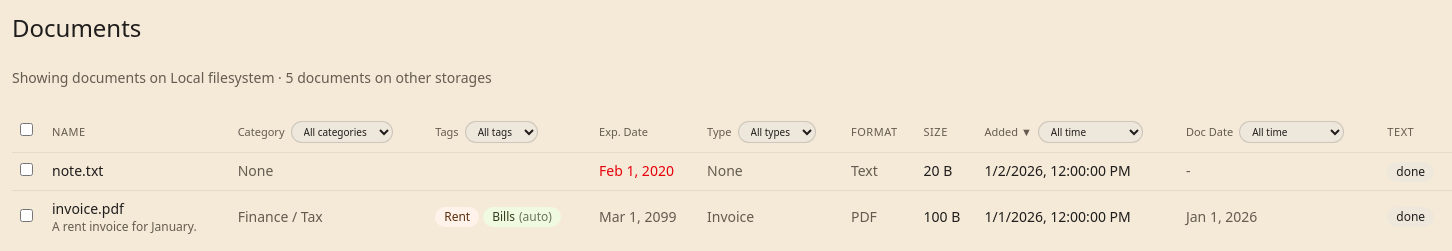
Test case: DocumentsPage › filters by category using the header dropdown and shows a clearable active filter
Expected: the link "invoice.pdf" is shown, [52,198,124,218]
Step 1. Select "Finance / Tax" in the dropdown named "Filter by category" → (342, 132), box [290,121,392,143]
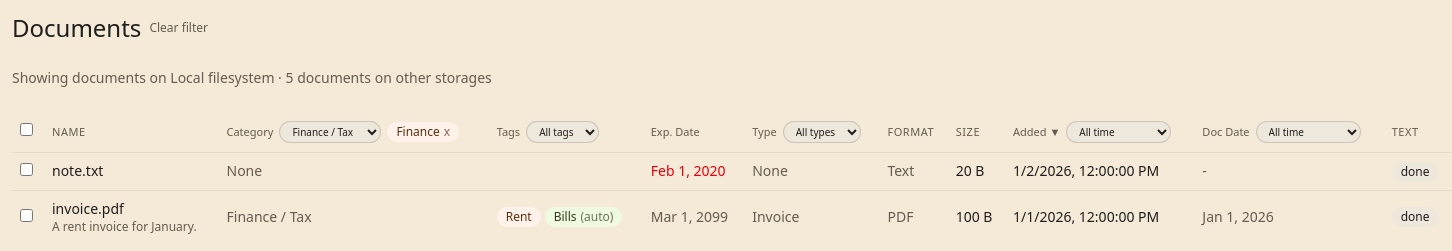
Now the button named "Clear category filter" is shown, box [444,124,450,140]
